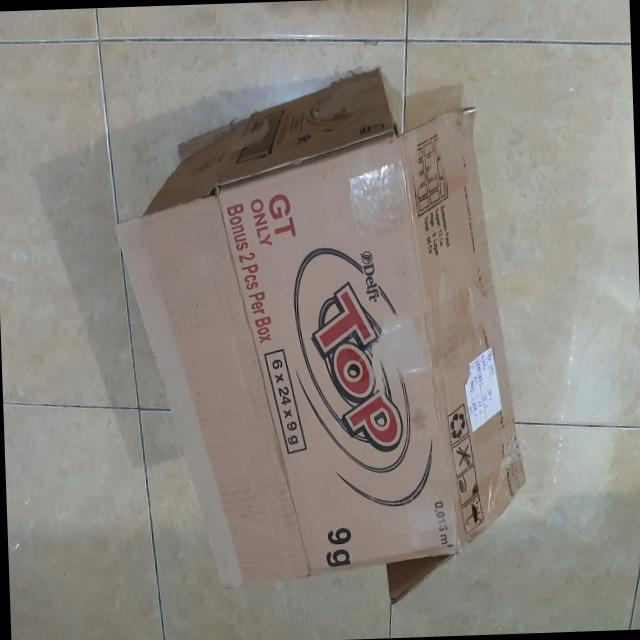Kardus: (110, 65, 530, 597)
